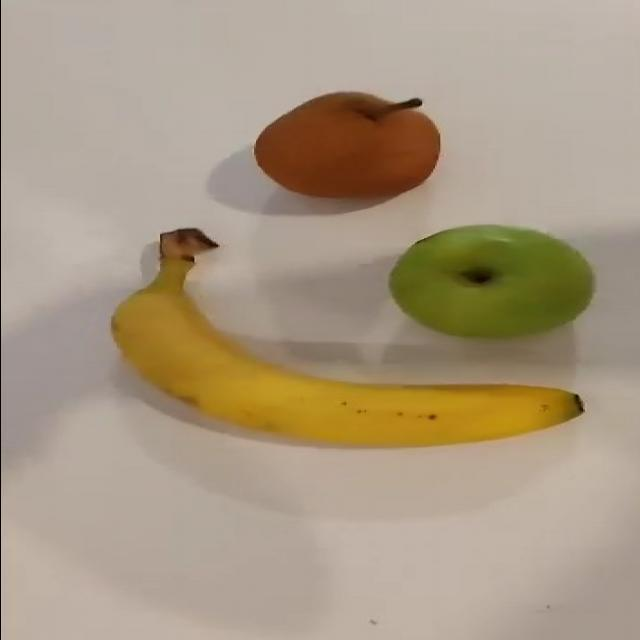Apple: (388, 223, 595, 338), (252, 89, 441, 199)
Banana: (109, 226, 584, 448)
